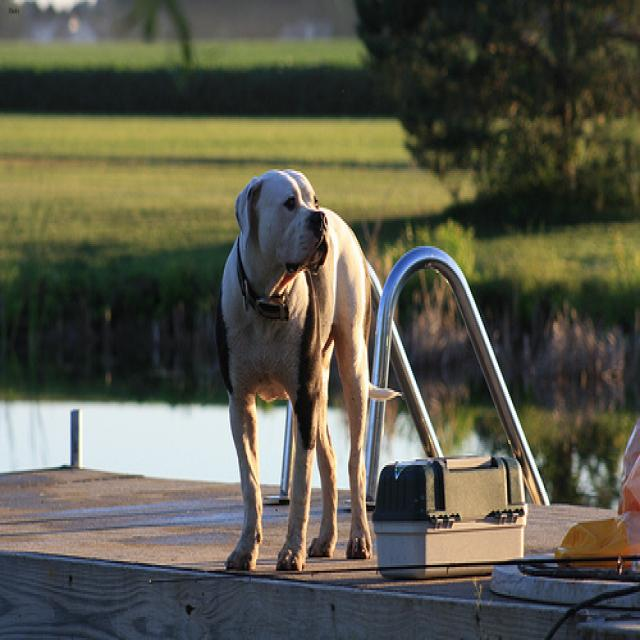dog-american_bulldog: (207, 161, 404, 580)
